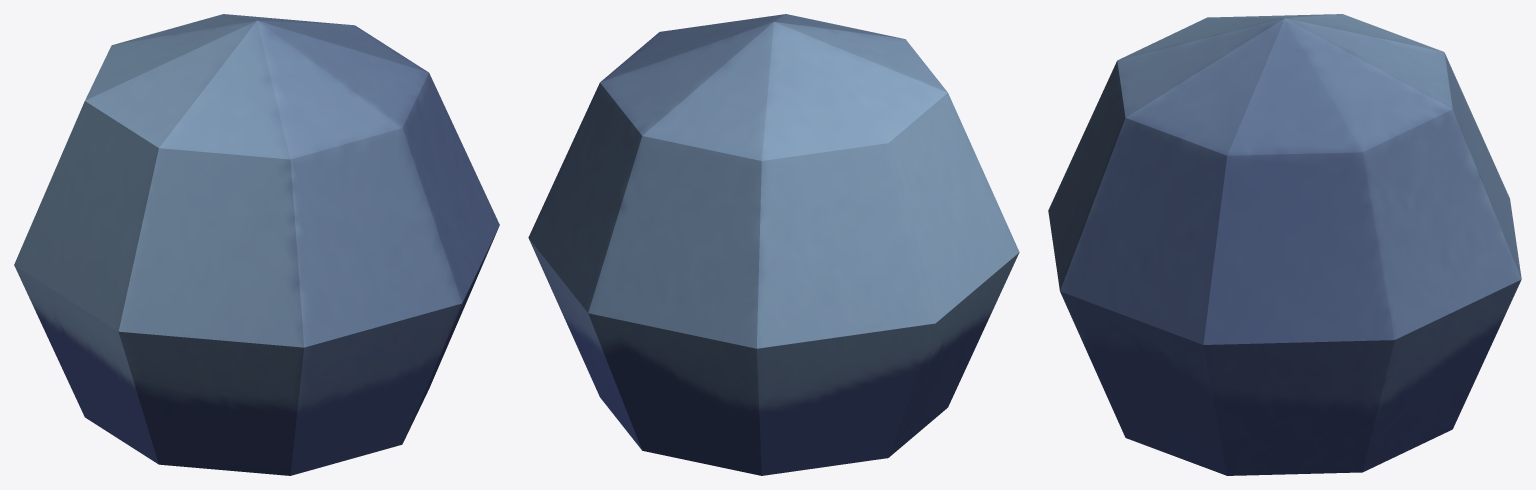
The model's file is Clam_02.FBX.
The picture shows the model from 3 angles, left to right: view 1: azimuth 30°, elevation 25°; view 2: azimuth 150°, elevation 25°; view 3: azimuth 270°, elevation 25°; orthographic projection.
Visible parts, largest first — view 1: Clam_02; view 2: Clam_02; view 3: Clam_02.
Boxes of the visible parts, x1=… form: Clam_02: x1=14, y1=14, x2=499, y2=475; Clam_02: x1=528, y1=14, x2=1019, y2=475; Clam_02: x1=1048, y1=14, x2=1521, y2=475.
Size of the model in its own units: 1.59 by 1.68 by 1.59.
